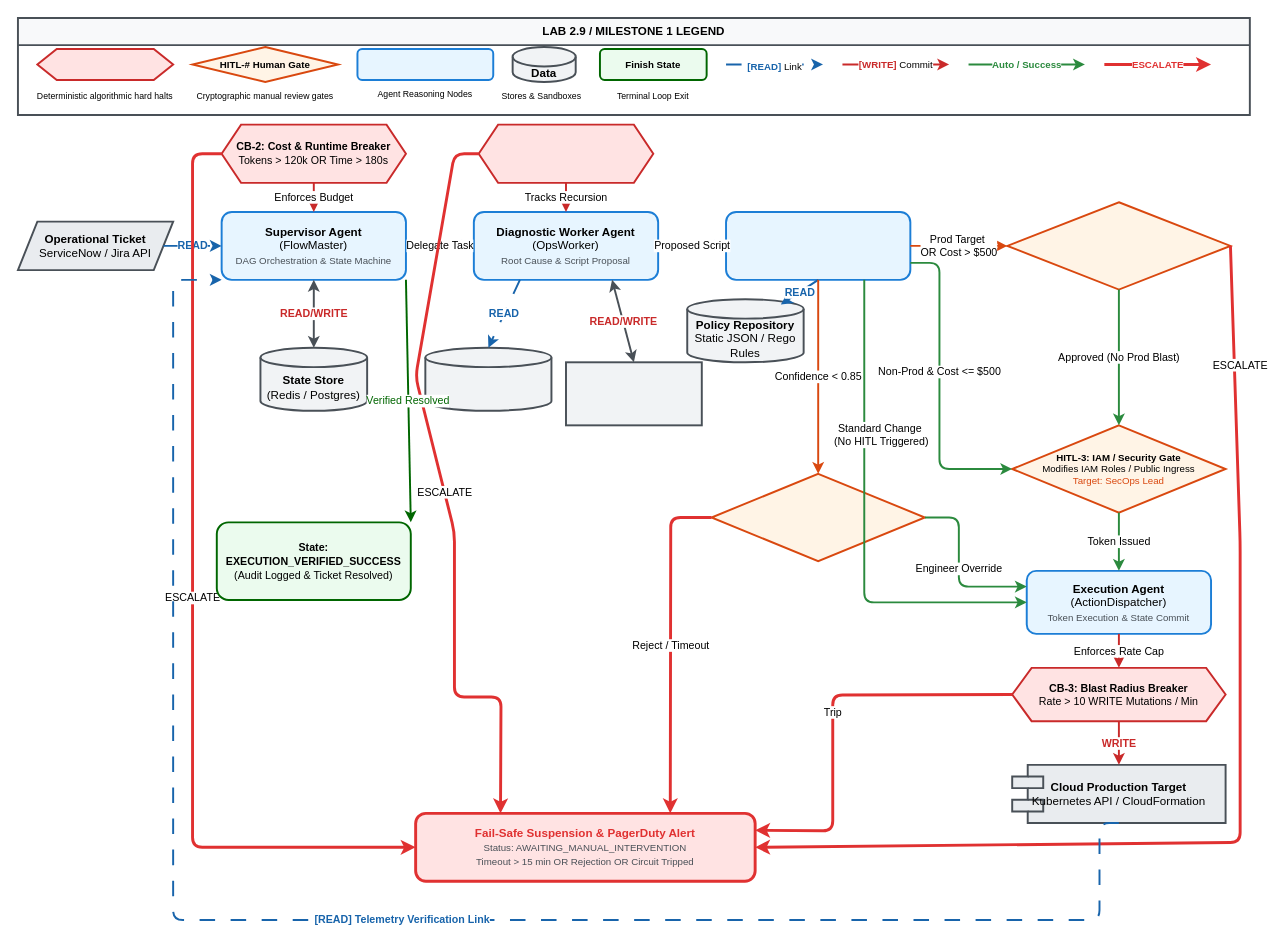
The diagram is 1284 pixels wide and 945 high, and some of its shapes have lost their labels. The centre of each missing label's shape, as x and y in pixels:
Autonomous Agent: the point at 425,64
CB-# Circuit Breaker: the point at 105,64
CB-1: Loop Breaker > 3 Identical/Failed Retries: the point at 565,153
Code Sandbox Ephemeral Docker Container: the point at 633,393
HITL-1: Prod Impact Gate Target = Prod DB OR Cost > $500/mo Target: Lead SRE: the point at 1118,245
HITL-2: Confidence Gate Score < 0.85 OR Ambiguity > 0.30 Target: DevOps Tier-3: the point at 817,517
Metrics & Logs DB CloudWatch / Prometheus: the point at 488,378
Verification Agent (GateKeeper) JSON Schema & Policy Evaluation: the point at 818,245
